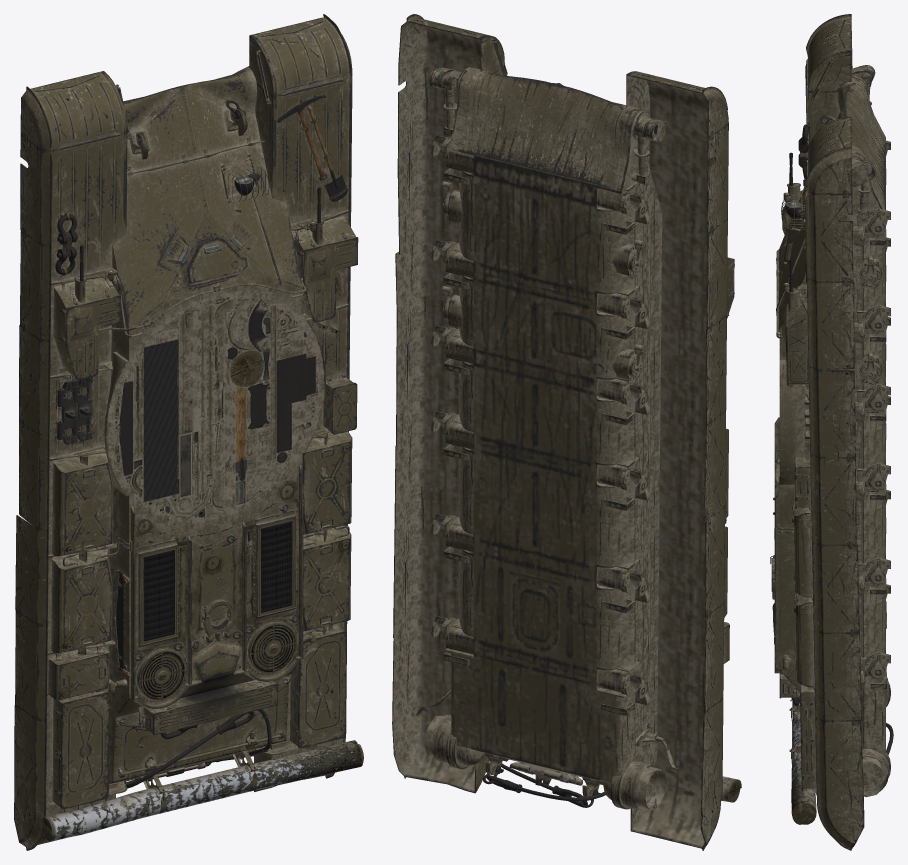
File: Hull.glb
3 views of the same model, side by side, from view 1: azimuth 30°, elevation 25°; view 2: azimuth 150°, elevation 25°; view 3: azimuth 270°, elevation 25° (orthographic). The views are drawn at different scales.
Visible parts, largest first — view 1: set_0_group_0; view 2: set_0_group_0; view 3: set_0_group_0.
Boxes of the visible parts, x1=… form: set_0_group_0: x1=14, y1=14, x2=363, y2=850; set_0_group_0: x1=392, y1=14, x2=741, y2=850; set_0_group_0: x1=770, y1=14, x2=893, y2=850.
Bounding box in the file's own units: 3.44 × 8 × 1.27.
Materials: 1 (1 with a texture image).
